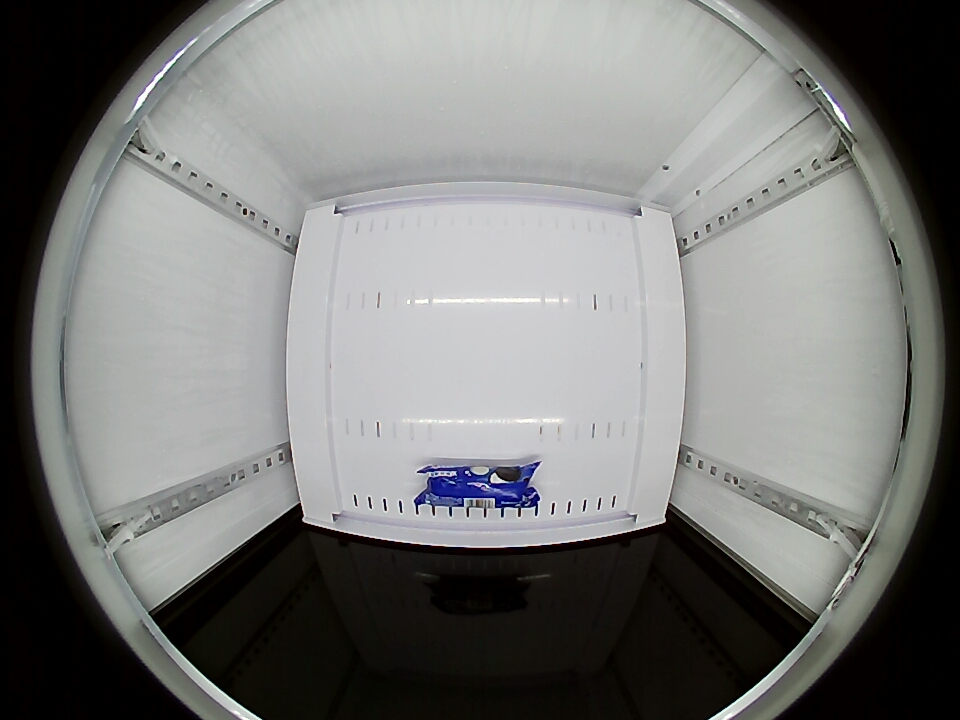aoliao: (422, 462, 539, 508)
